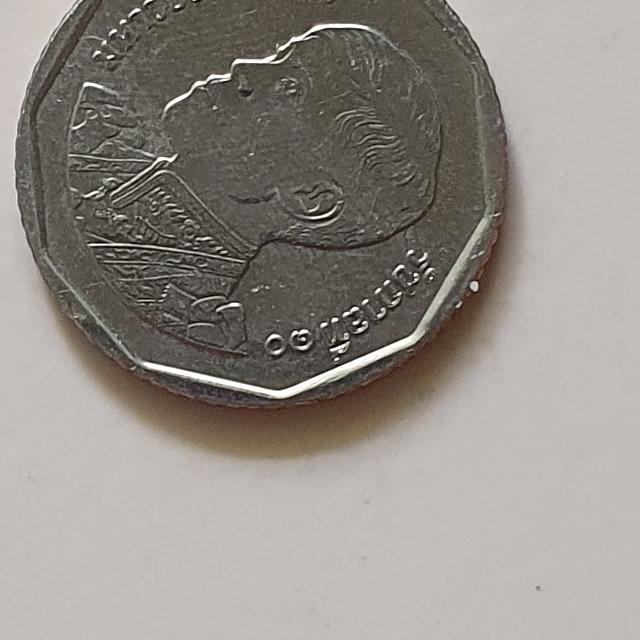5 Bath: (11, 1, 517, 420)
